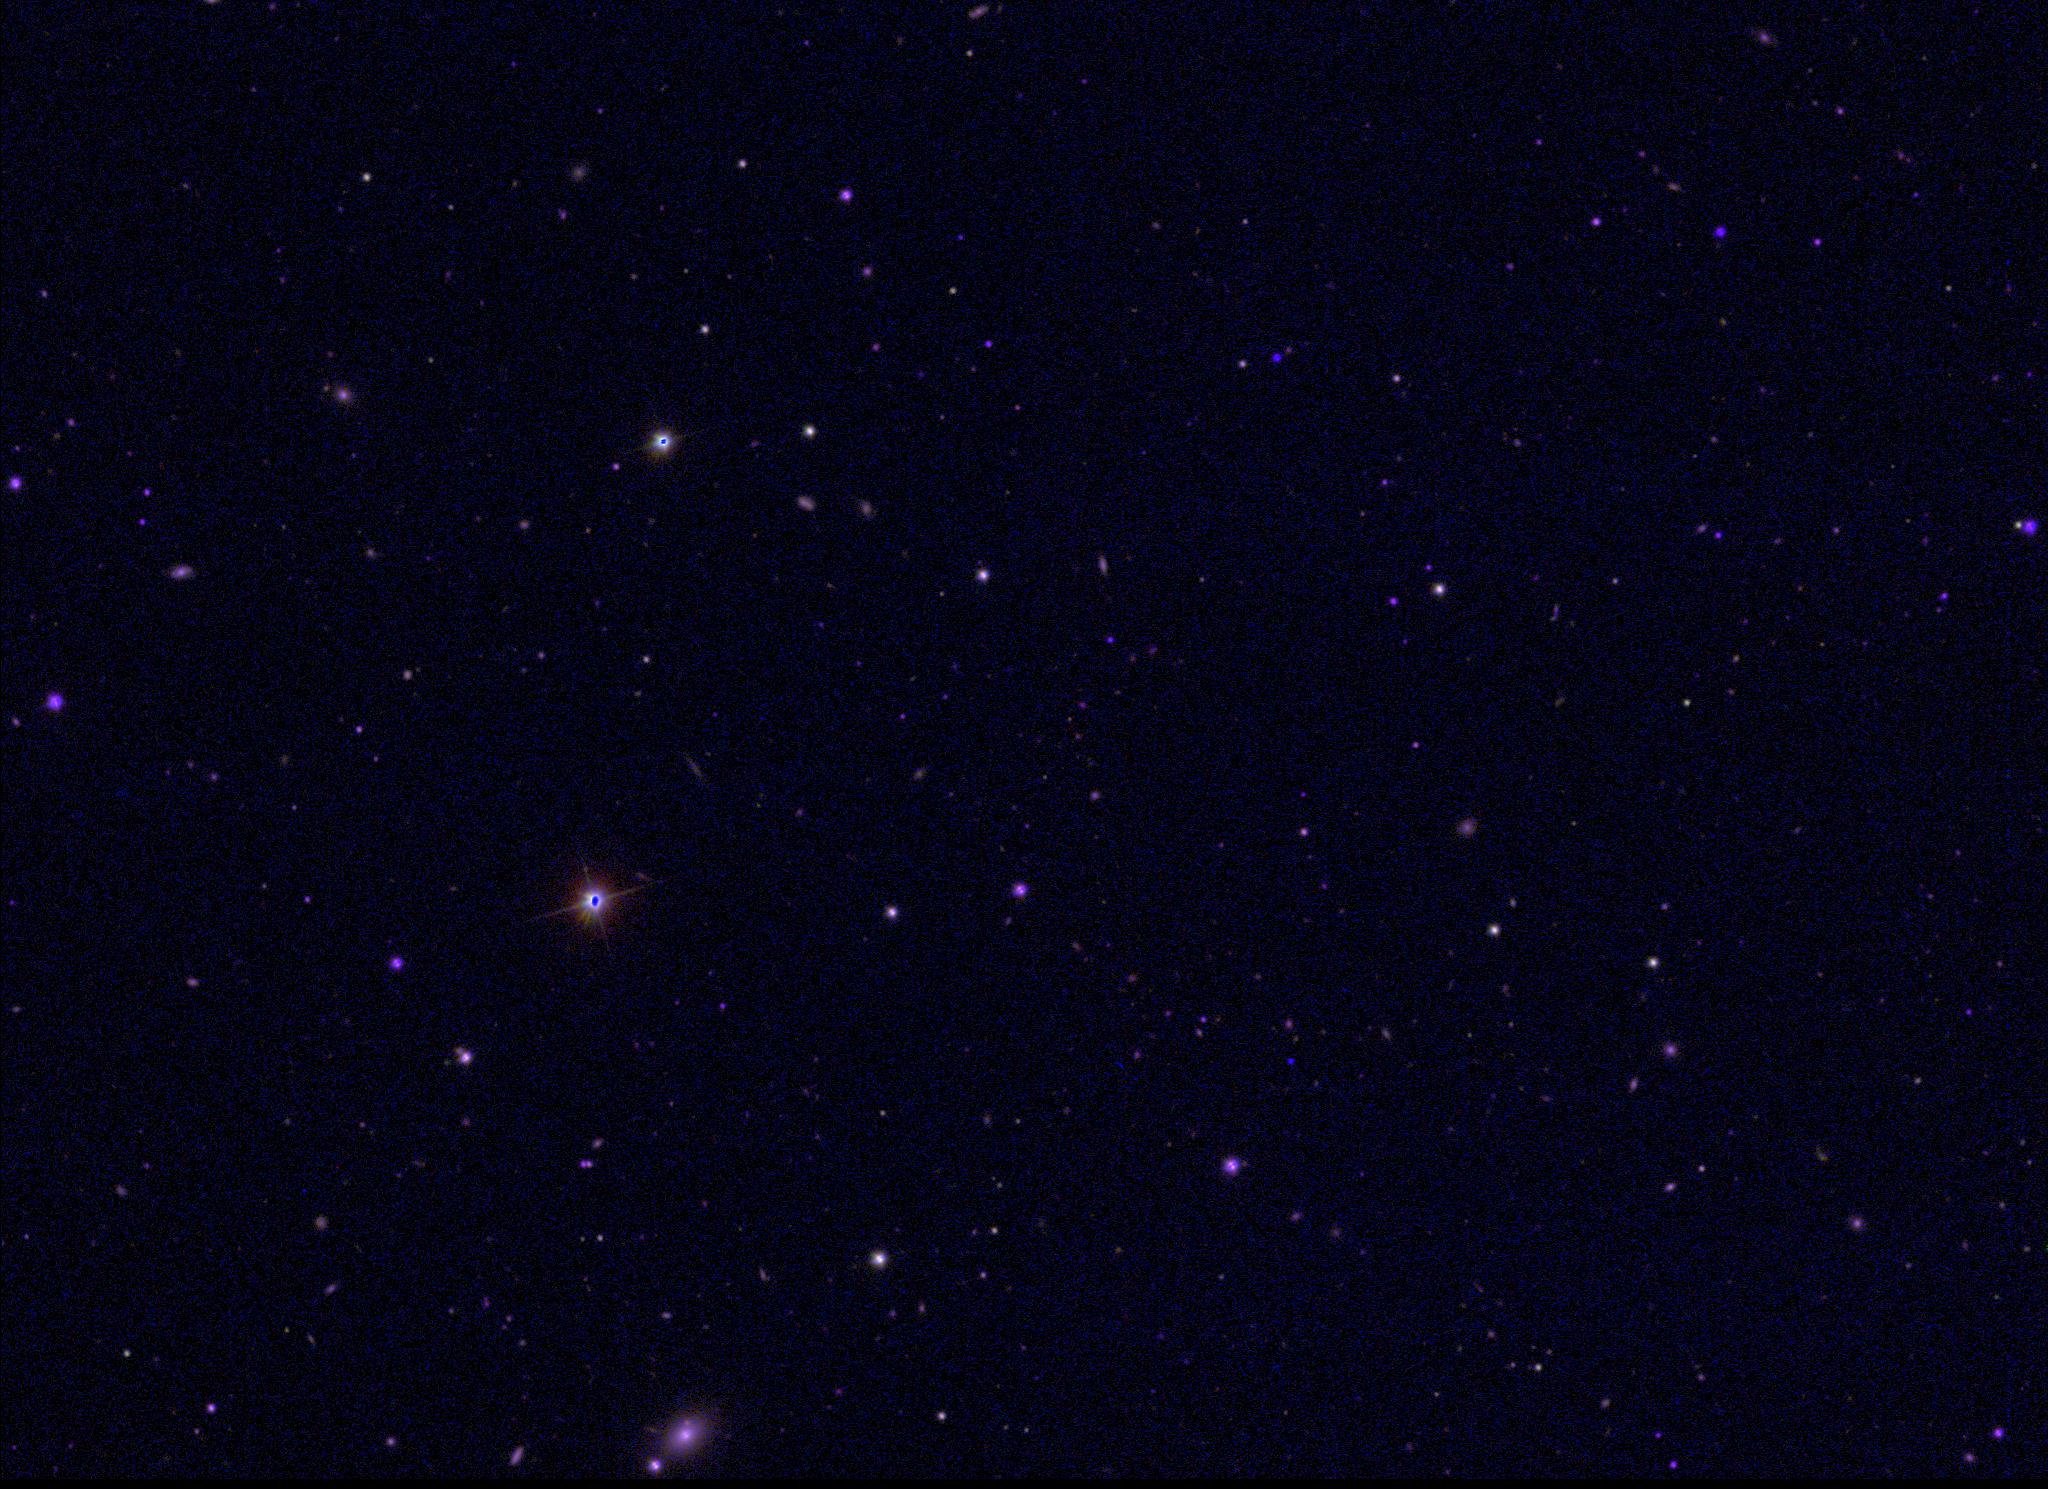L: (1285, 1055, 1297, 1067)
